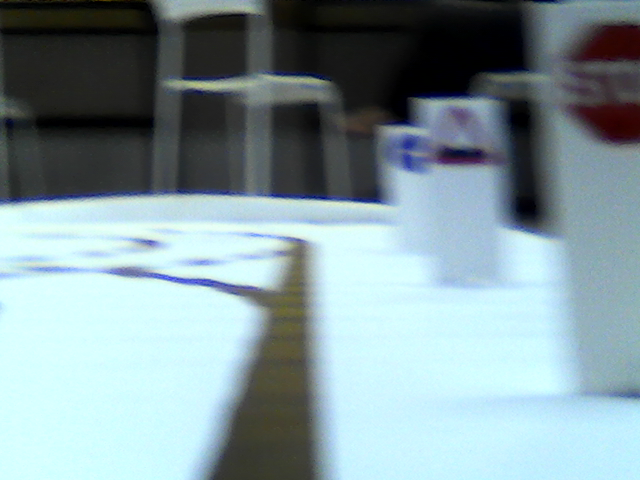Stop: (566, 20, 640, 147)
